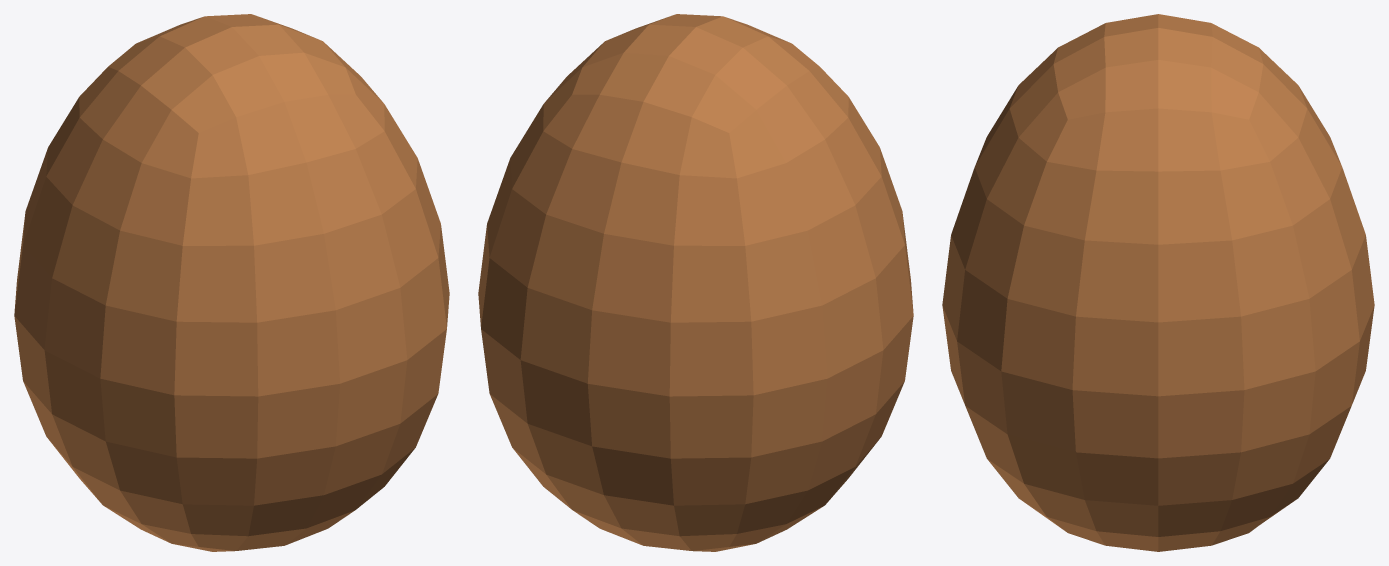
Rendered from Egg.fbx.
3 renders of one model, left to right at view 1: azimuth 30°, elevation 25°; view 2: azimuth 150°, elevation 25°; view 3: azimuth 270°, elevation 25°, orthographic.
Visible parts, largest first — view 1: Egg; view 2: Egg; view 3: Egg.
Boxes of the visible parts, x1,y1,x2,y2 form: Egg: (14, 14, 449, 551); Egg: (478, 14, 913, 551); Egg: (942, 14, 1374, 551).
Size of the model in its own units: 10.07 by 10.07 by 13.02.
